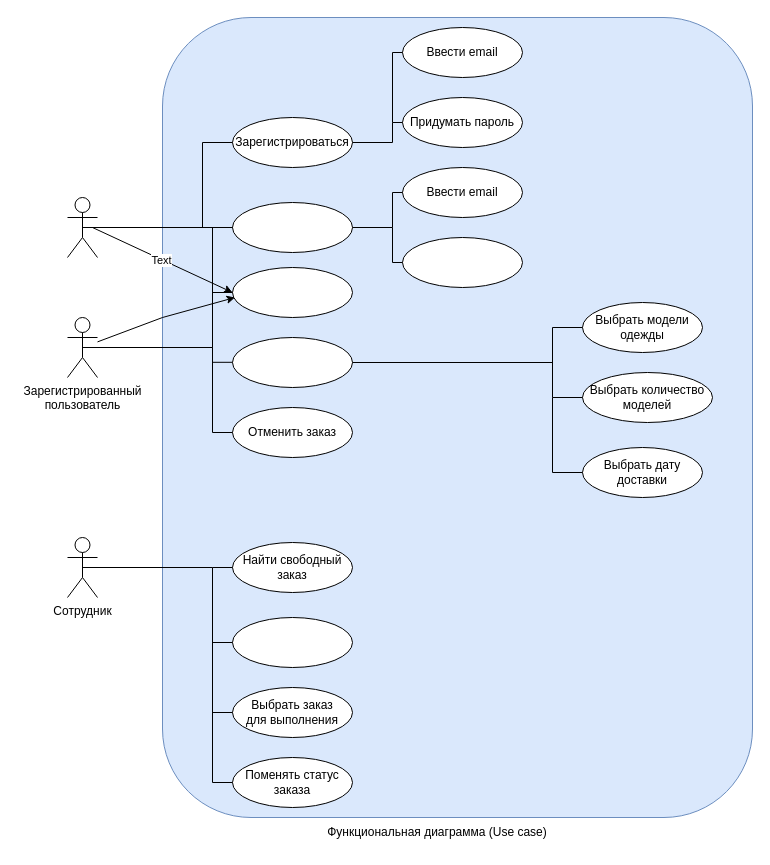
Image size: 770x865. Some labels were removed from this diagram. Each missing label, with the centre of its shape:
"Авторизоваться в системе" goes at point 292,227.
"Ввести пароль" goes at point 462,262.
"Незарегистрированный пользователь" goes at point 82,227.
"Посмотреть информацию о заказе" goes at point 292,642.
"Просмотреть товар" goes at point 292,292.
"Сделать заказ" goes at point 292,362.
